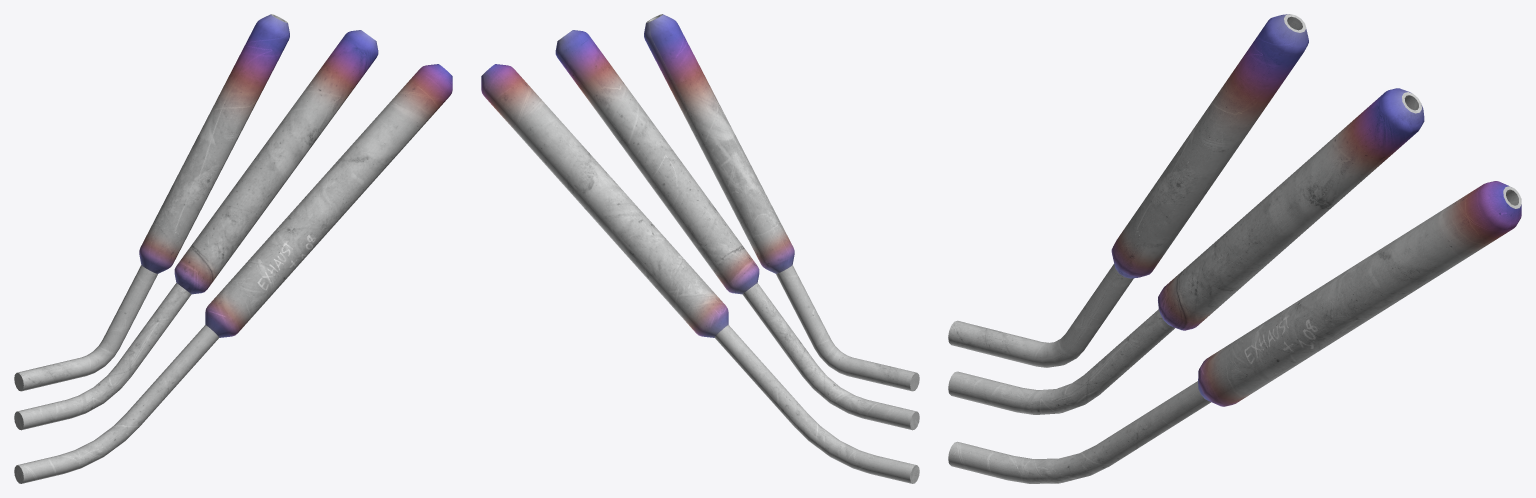
File: Prop_Exhaust.fbx
The picture shows the model from 3 angles, left to right: view 1: azimuth 30°, elevation 25°; view 2: azimuth 150°, elevation 25°; view 3: azimuth 330°, elevation 25°; orthographic projection. The views are drawn at different scales.
Parts seen in each view (by area): view 1: Prop_Exhaust; view 2: Prop_Exhaust; view 3: Prop_Exhaust.
Part boxes in pixels (x1=…): Prop_Exhaust: x1=14, y1=14, x2=452, y2=483; Prop_Exhaust: x1=481, y1=14, x2=919, y2=483; Prop_Exhaust: x1=948, y1=14, x2=1521, y2=483.
Size of the model in its own units: 185 by 167 by 15.26.
